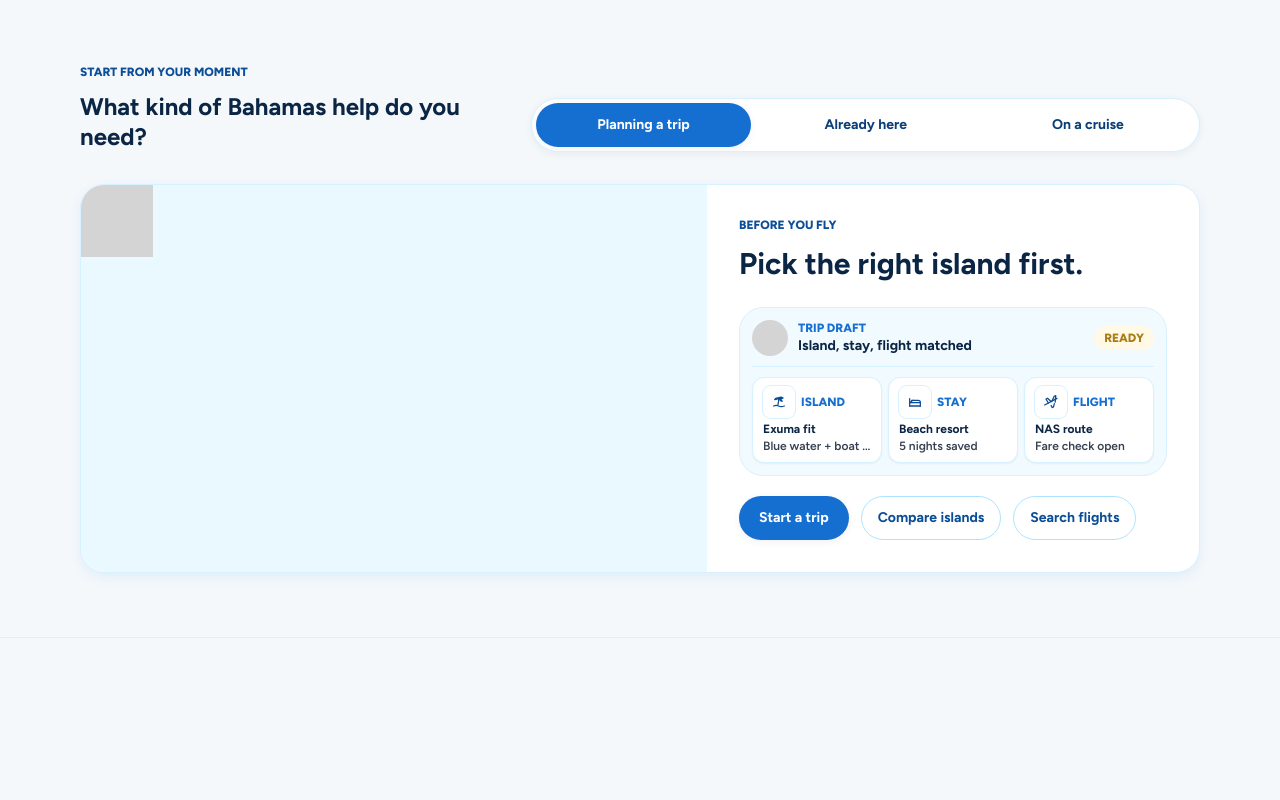
Scenario: TravelerModeTabs › switches to already-here actions
Click the tab "Already here" at (866, 125), box [759,103,973,147]
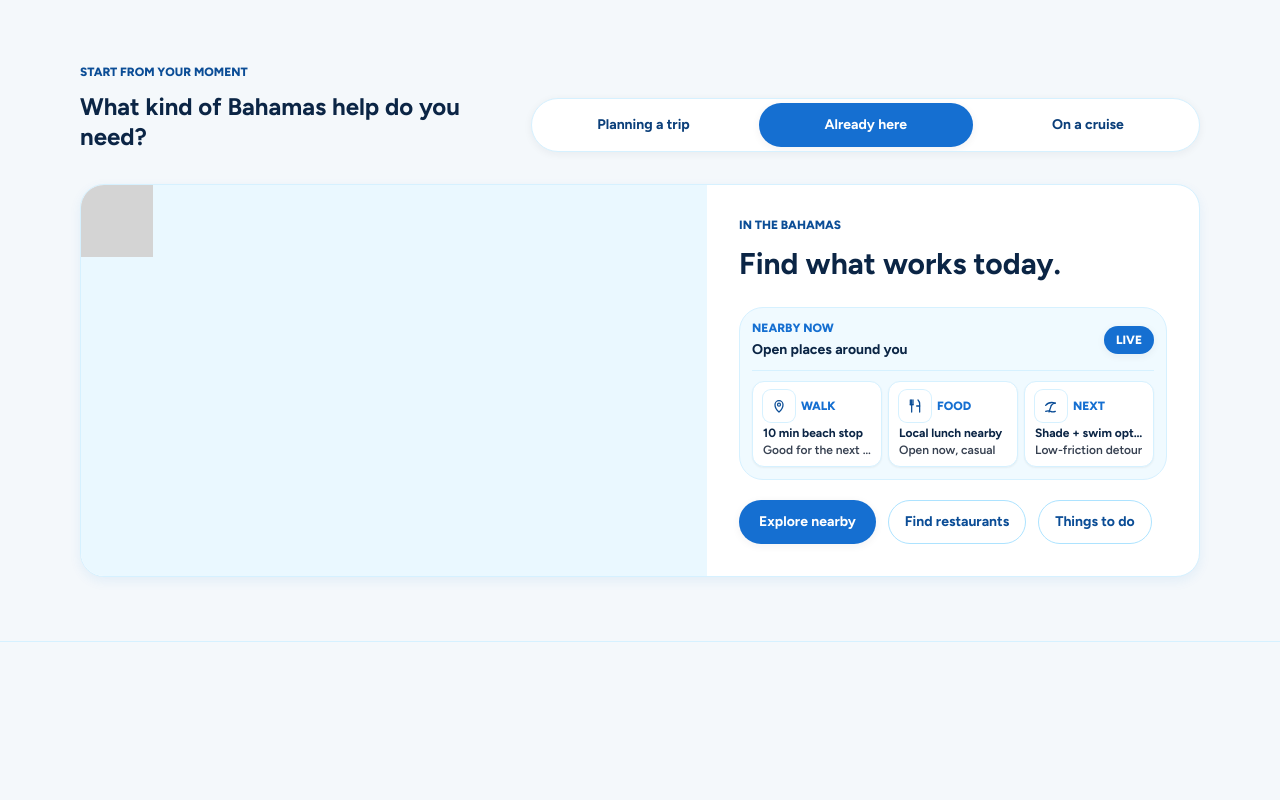
Result: the heading "Find what works today." is shown at [739,245,1061,282]
